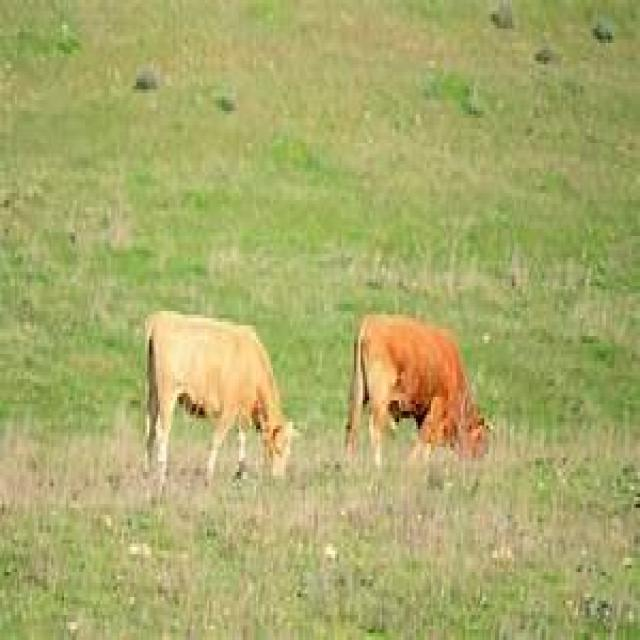animal: (140, 307, 298, 497), (344, 311, 491, 468)
